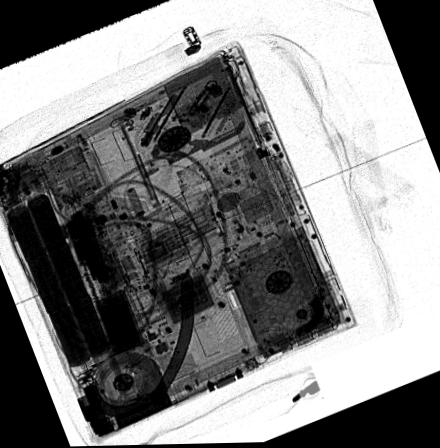Baton: (56, 198, 153, 371)
